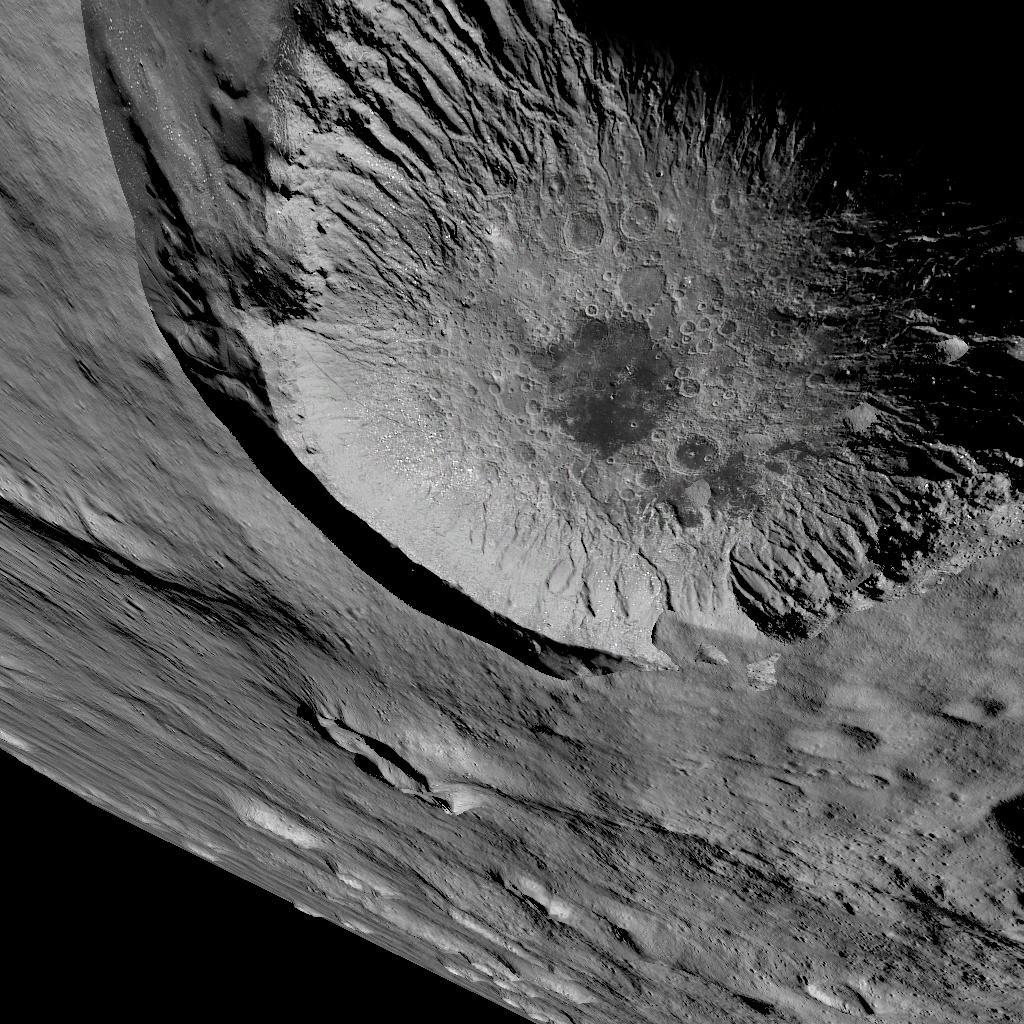Crater: (61, 0, 1024, 685), (270, 696, 448, 842)
Plan surface: (522, 707, 987, 1024)
